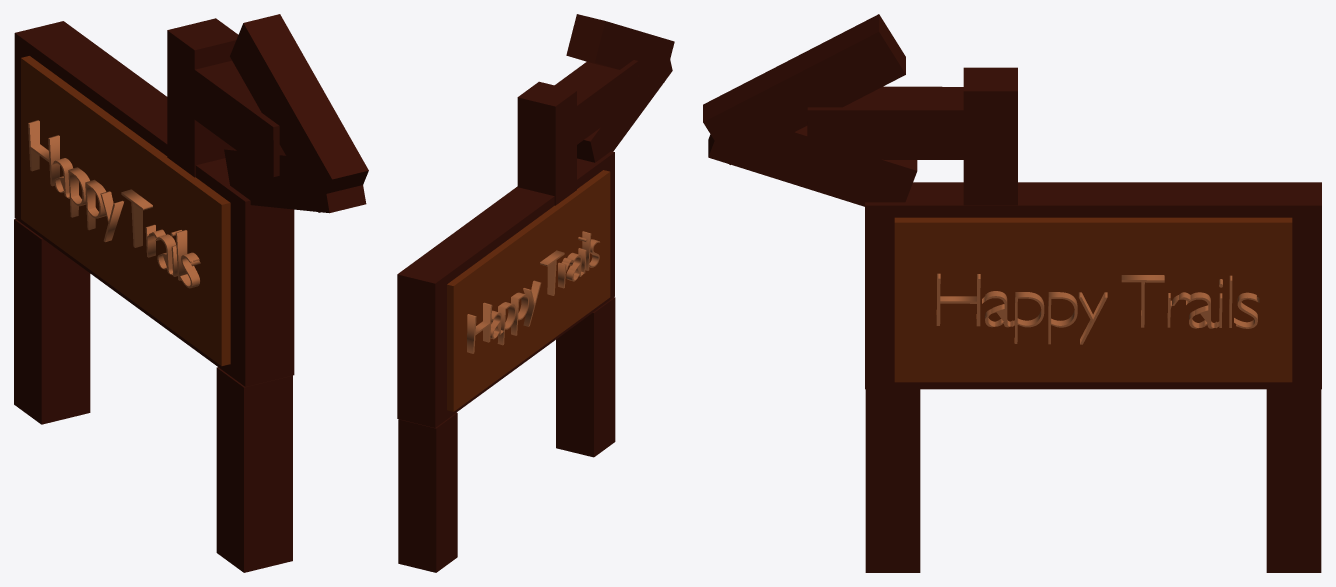
File: Happy Trails Sign.fbx
The picture shows the model from 3 angles, left to right: view 1: azimuth 30°, elevation 25°; view 2: azimuth 150°, elevation 25°; view 3: azimuth 270°, elevation 25°; orthographic projection. The views are drawn at different scales.
Visible parts, largest first — view 1: Cube.005, Text; view 2: Cube.005, Text; view 3: Cube.005, Text.001.
Boxes of the visible parts, left/top/right/bottom form: Cube.005: left=14, top=14, right=368, bottom=572; Text: left=28, top=120, right=200, bottom=288; Cube.005: left=397, top=14, right=674, bottom=572; Text: left=467, top=231, right=599, bottom=353; Cube.005: left=703, top=14, right=1321, bottom=572; Text.001: left=936, top=273, right=1259, bottom=344.
Size of the model in its own units: 100 by 587 by 611.
